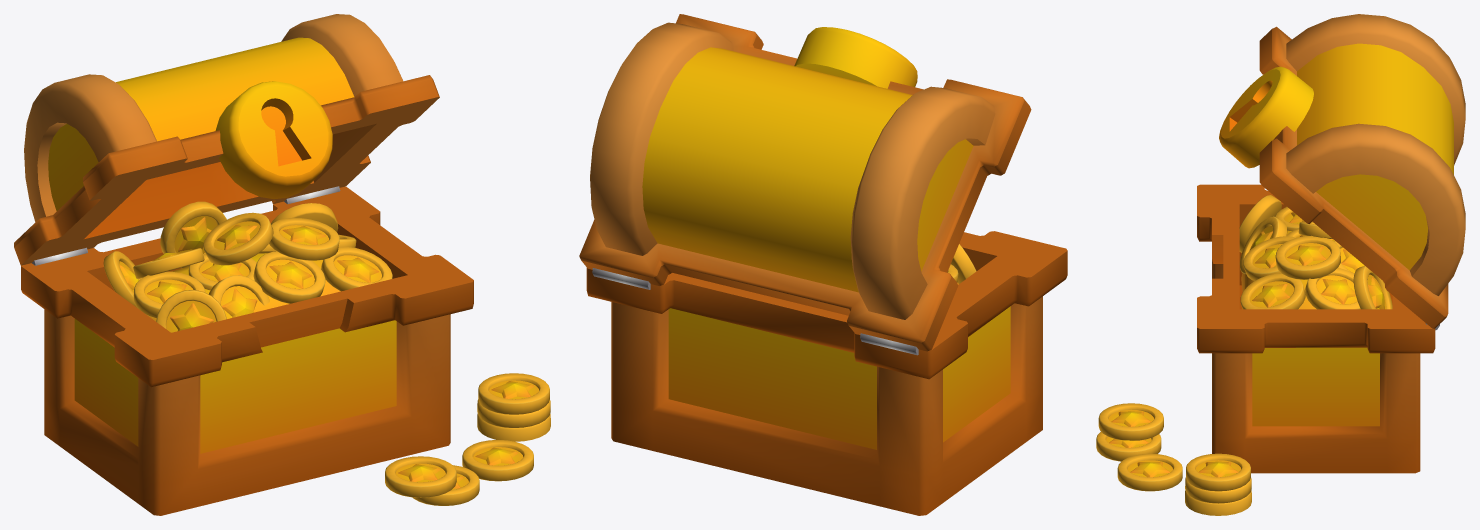
Rendered from Chest_01.fbx.
3 views of the same model, side by side, from view 1: azimuth 30°, elevation 25°; view 2: azimuth 150°, elevation 25°; view 3: azimuth 270°, elevation 25° (orthographic). The views are drawn at different scales.
Parts seen in each view (by area): view 1: Chest_01; view 2: Chest_01; view 3: Chest_01.
Boxes of the visible parts, bbox=[...] form: Chest_01: bbox=[14, 14, 550, 515]; Chest_01: bbox=[579, 14, 1067, 515]; Chest_01: bbox=[1096, 14, 1465, 515].
Bounding box in the file's own units: 120 × 104 × 104.
